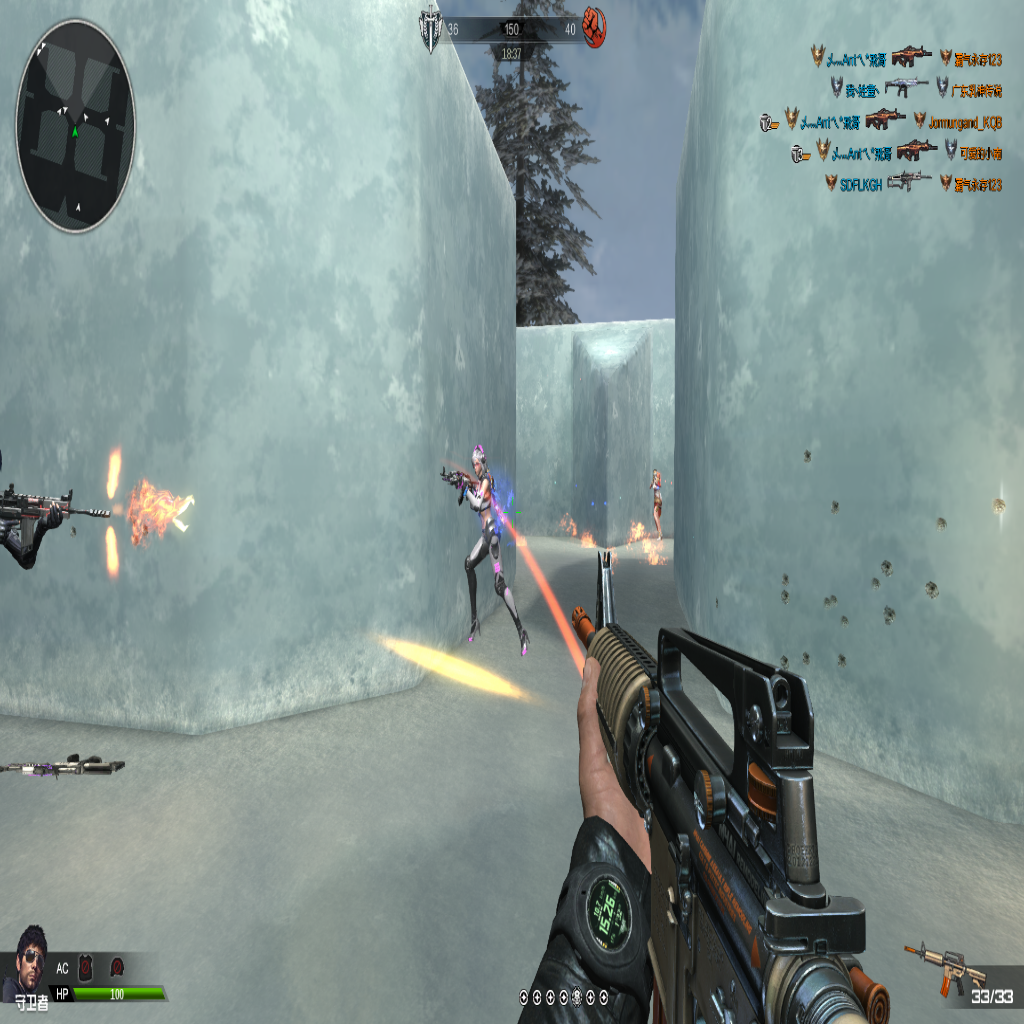tt: (451, 445, 527, 653), (651, 466, 665, 539)
